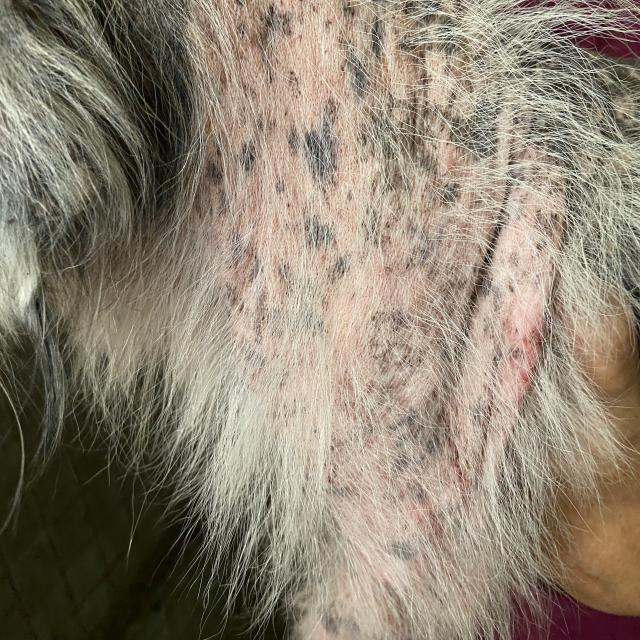demodicosis: (198, 11, 578, 459)
